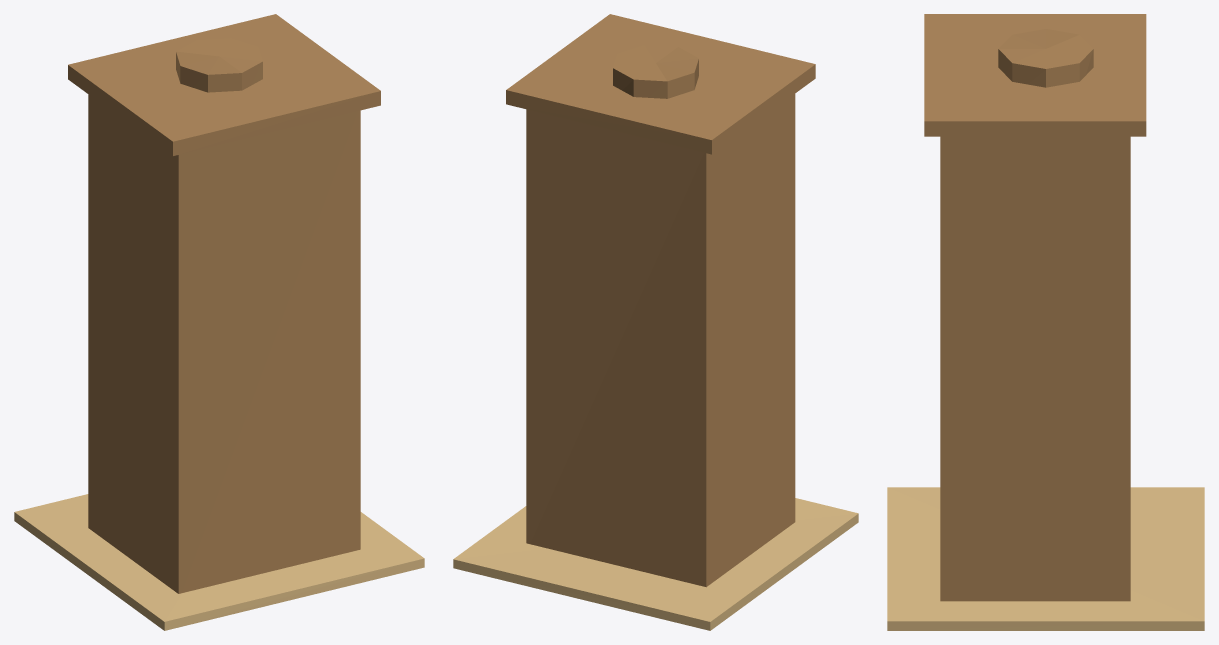
Rendered from Lighthouse.glb.
3 views of the same model, side by side, from view 1: azimuth 30°, elevation 25°; view 2: azimuth 150°, elevation 25°; view 3: azimuth 270°, elevation 25° (orthographic). The views are drawn at different scales.
Parts seen in each view (by area): view 1: lighthouse-static-lighthouse-wall, lighthouse-static-lighthouse-teal, lighthouse-static-lighthouse-earth, lighthouse-static-lighthouse-accent; view 2: lighthouse-static-lighthouse-wall, lighthouse-static-lighthouse-teal, lighthouse-static-lighthouse-earth, lighthouse-static-lighthouse-accent; view 3: lighthouse-static-lighthouse-wall, lighthouse-static-lighthouse-earth, lighthouse-static-lighthouse-teal, lighthouse-static-lighthouse-accent.
Boxes of the visible parts, bbox=[...] form: lighthouse-static-lighthouse-wall: bbox=[88, 94, 360, 593]; lighthouse-static-lighthouse-teal: bbox=[68, 14, 380, 155]; lighthouse-static-lighthouse-earth: bbox=[14, 494, 424, 630]; lighthouse-static-lighthouse-accent: bbox=[176, 38, 262, 92]; lighthouse-static-lighthouse-wall: bbox=[526, 94, 795, 587]; lighthouse-static-lighthouse-teal: bbox=[506, 14, 815, 154]; lighthouse-static-lighthouse-earth: bbox=[453, 498, 858, 630]; lighthouse-static-lighthouse-accent: bbox=[613, 45, 698, 98]; lighthouse-static-lighthouse-wall: bbox=[940, 136, 1130, 601]; lighthouse-static-lighthouse-earth: bbox=[887, 487, 1204, 630]; lighthouse-static-lighthouse-teal: bbox=[924, 14, 1146, 136]; lighthouse-static-lighthouse-accent: bbox=[998, 29, 1093, 87].
Size of the model in its own units: 3 by 5.38 by 3.
